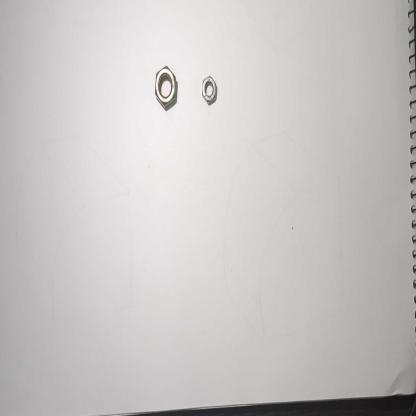NUTS: (153, 61, 180, 113), (200, 67, 221, 112)
